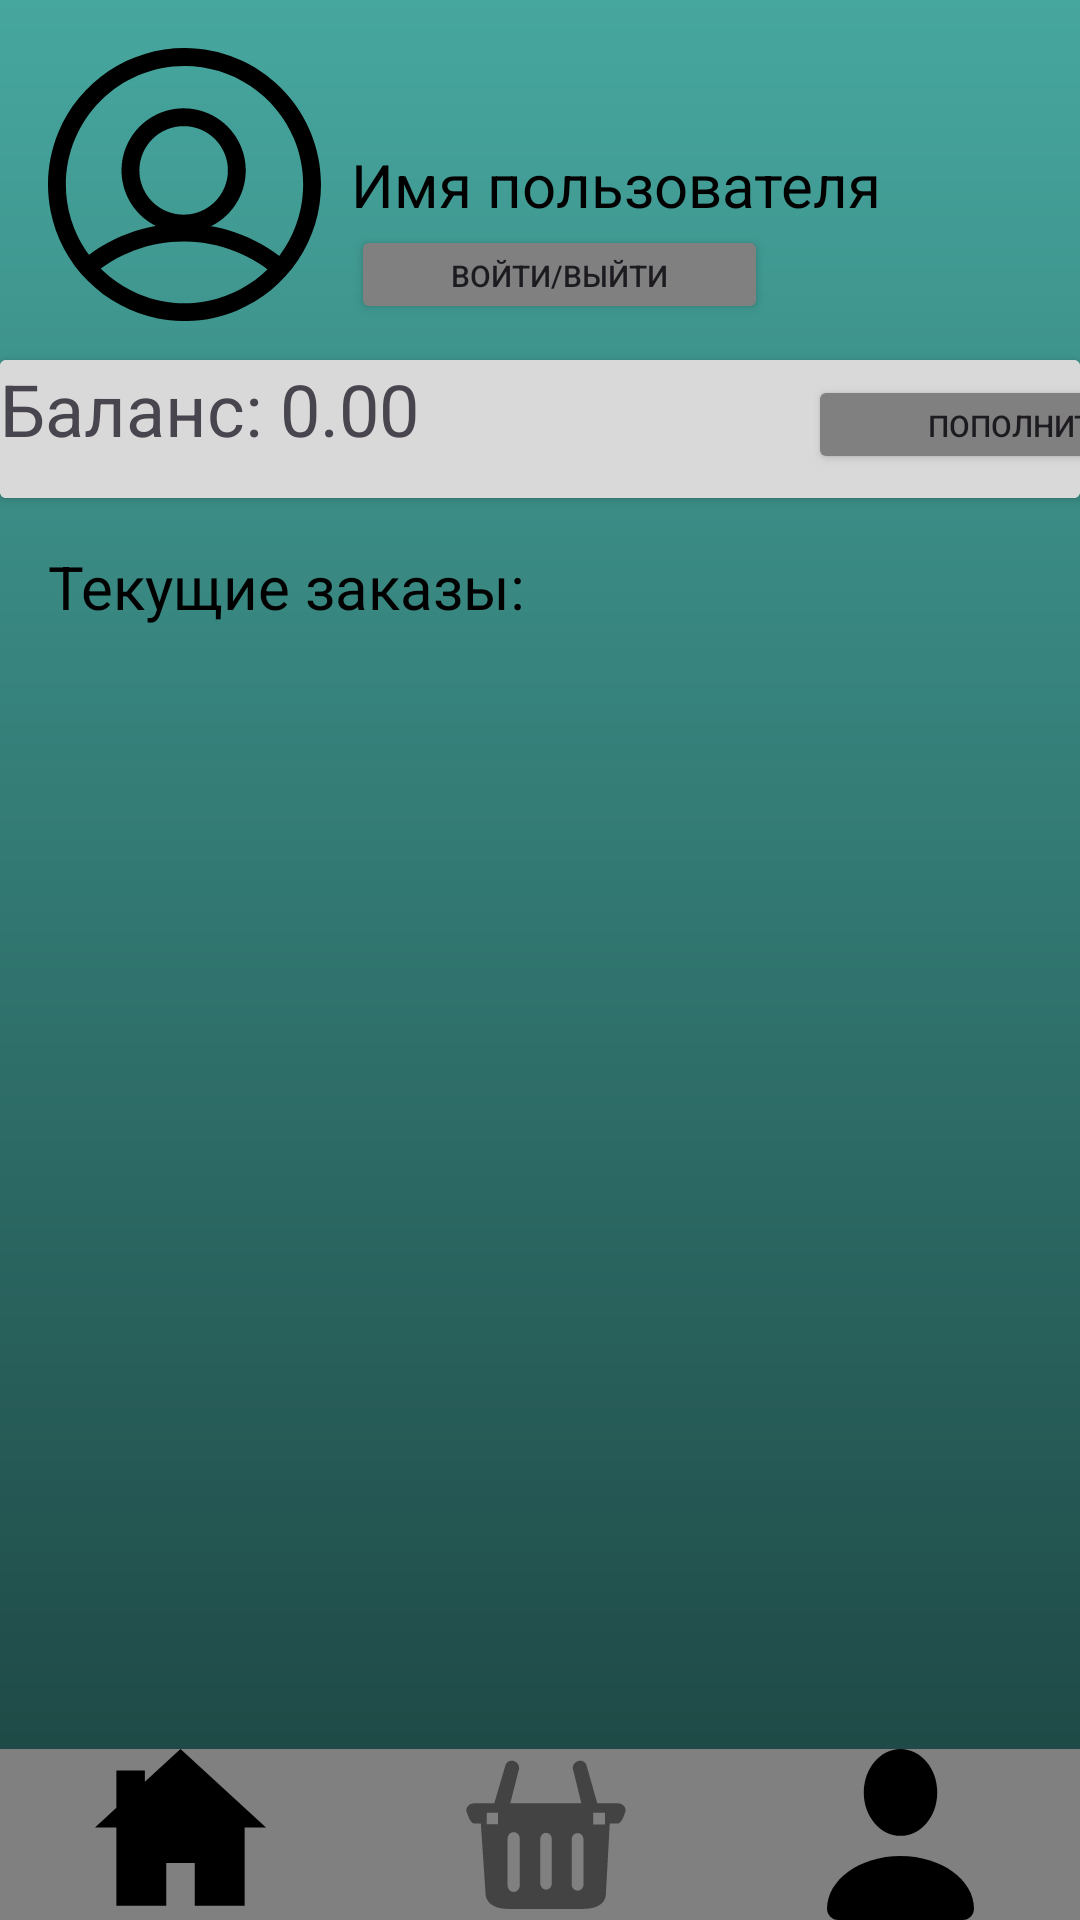

Screen size 1080×1920. Icon name, then its box in pixels as BBox(x1, y1, x2, y2):
basket: BBox(466, 1761, 626, 1909)
home: BBox(95, 1749, 266, 1906)
